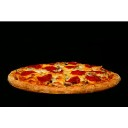pepperonipizza: (9, 61, 122, 93)
